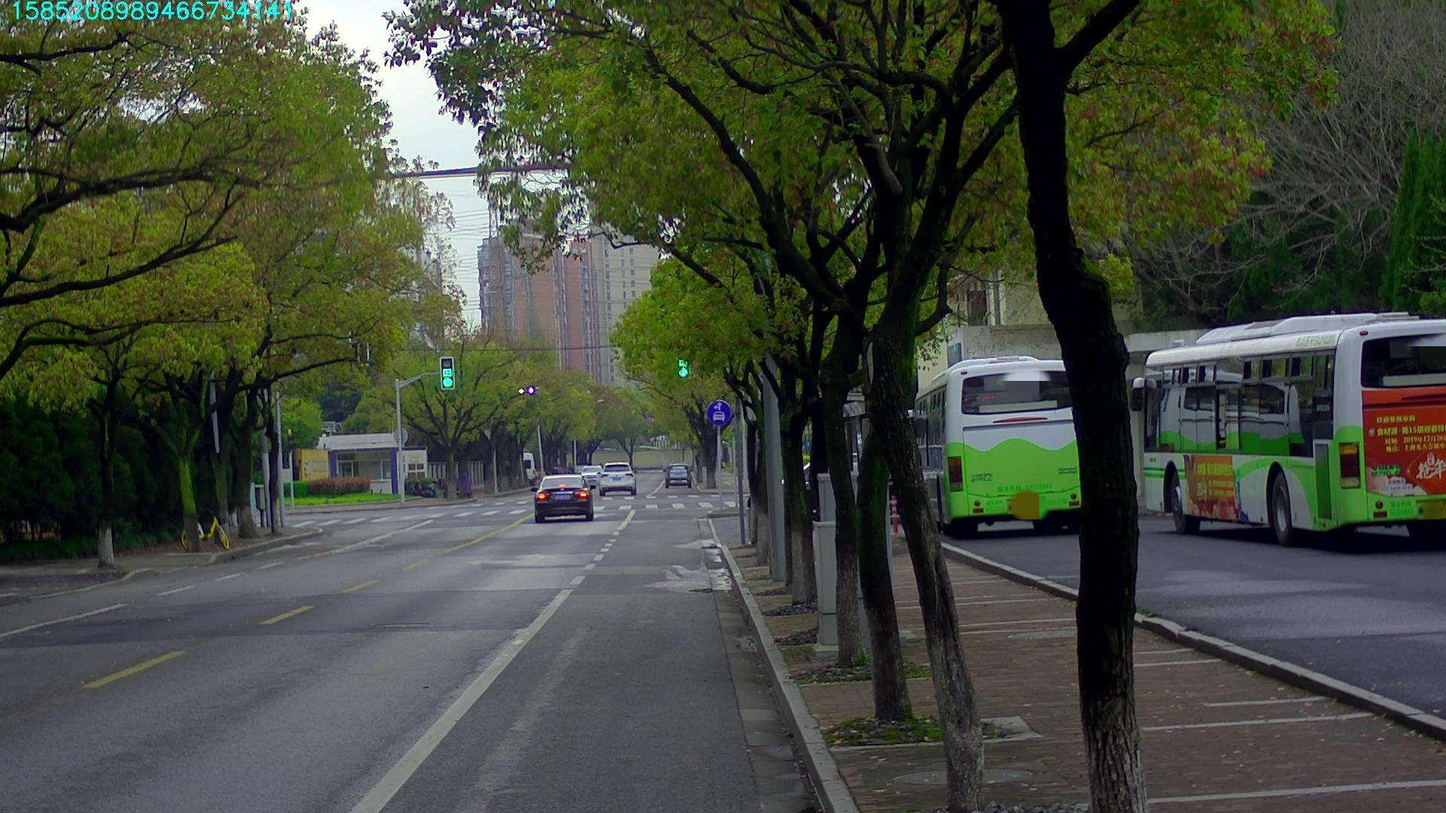green: (441, 357, 453, 388), (676, 356, 689, 378)
